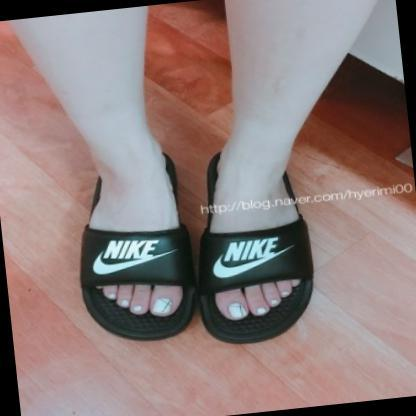no_safety-shoe: (197, 133, 343, 372), (63, 150, 204, 365)
